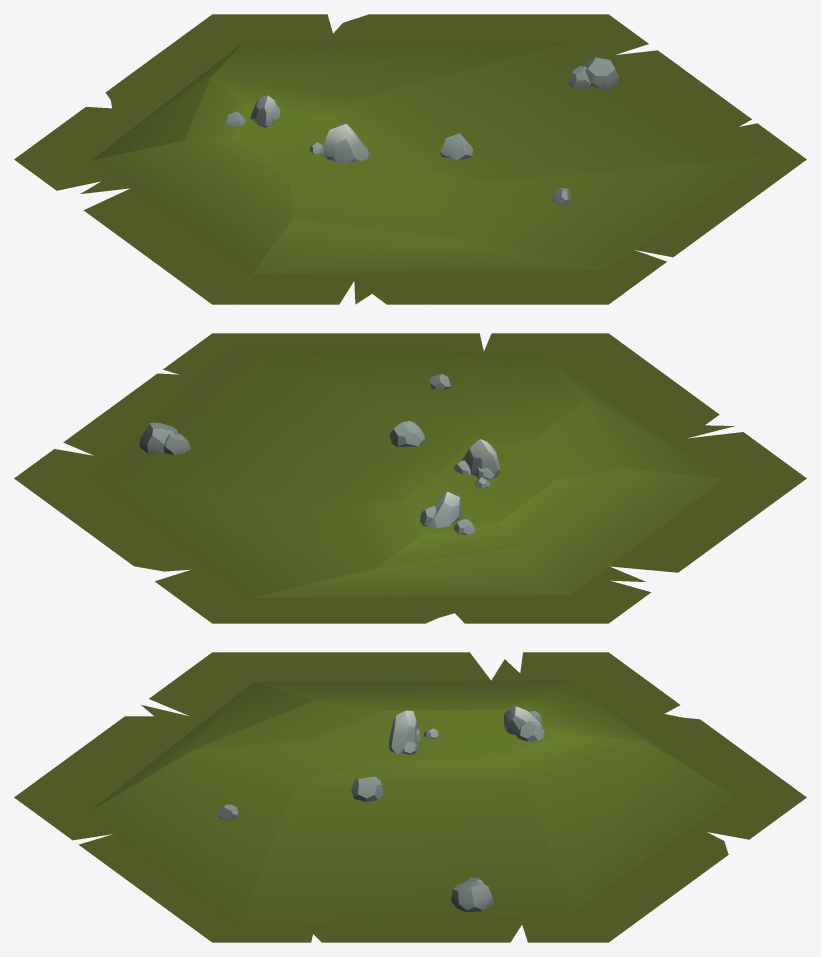
Rendered from wood-grass-rocky-plane.glb.
3 renders of one model, top to bottom at view 1: azimuth 30°, elevation 25°; view 2: azimuth 150°, elevation 25°; view 3: azimuth 270°, elevation 25°, orthographic.
Visible parts, largest first — view 1: plane, rock; view 2: plane, rock; view 3: plane, rock.
Part boxes in pixels (bbox=[...]): plane: bbox=[14, 14, 806, 304]; rock: bbox=[225, 57, 619, 205]; plane: bbox=[14, 333, 806, 623]; rock: bbox=[139, 374, 499, 534]; plane: bbox=[14, 652, 806, 942]; rock: bbox=[217, 706, 545, 912].
Size of the model in its own units: 1.73 by 0.1874 by 2.
1 material, 1 textured.
